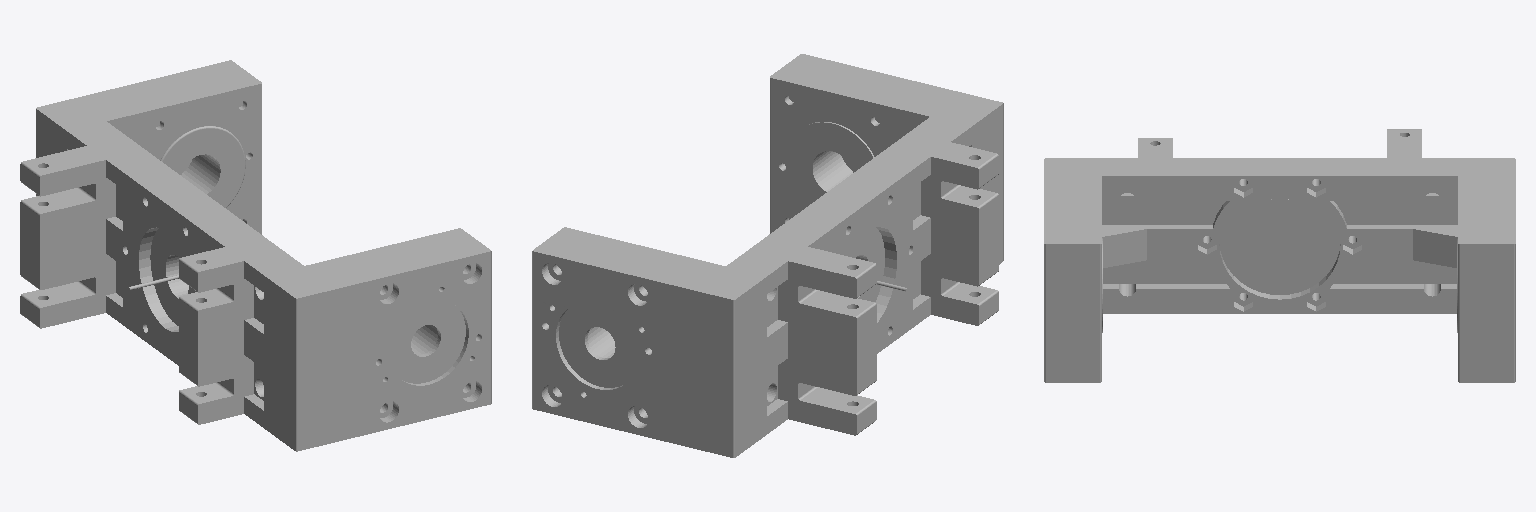
URDF robot description (root):
<?xml version='1.0' encoding='utf-8'?>
<robot name="root">
  <link name="link_001">
    <visual>
      <origin xyz="0 0 0" rpy="0 0 0" />
      <geometry>
        <mesh filename="a08daa547751426b769967cad4b03e98ae3cf46093ee0af2694d360e7be8a394_scale_074.stl" scale="1.0000E+00 1.0000E+00 1.0000E+00" />
      </geometry>
      <material name="">
        <color rgba="7.50E-01 7.50E-01 7.50E-01 1" />
      </material>
    </visual>
    <collision>
      <origin xyz="0 0 0" rpy="0 0 0" />
      <geometry>
        <mesh filename="a08daa547751426b769967cad4b03e98ae3cf46093ee0af2694d360e7be8a394_scale_074.stl" scale="1.0000E+00 1.0000E+00 1.0000E+00" />
      </geometry>
    </collision>
  </link>
</robot>

--- Facts derived from the render (not from the file) ---
Views: 3 orthographic renders of the robot side by side, from view 1: azimuth 30°, elevation 25°; view 2: azimuth 150°, elevation 25°; view 3: azimuth 270°, elevation 25°.
Robot: root — 1 links, 0 joints (none); root link link_001; default pose: all joints at 0.
Visible links, largest first — view 1: link_001; view 2: link_001; view 3: link_001.
Boxes of the visible links, left/top/right/bottom form: link_001: left=20, top=60, right=491, bottom=451; link_001: left=532, top=54, right=1003, bottom=457; link_001: left=1044, top=129, right=1515, bottom=382.
Size in the robot's own frame: 0.0581 by 0.1 by 0.0324 metres.
Meshes: 1 distinct files referenced, 1 mesh visuals loaded (1 binary STL).
